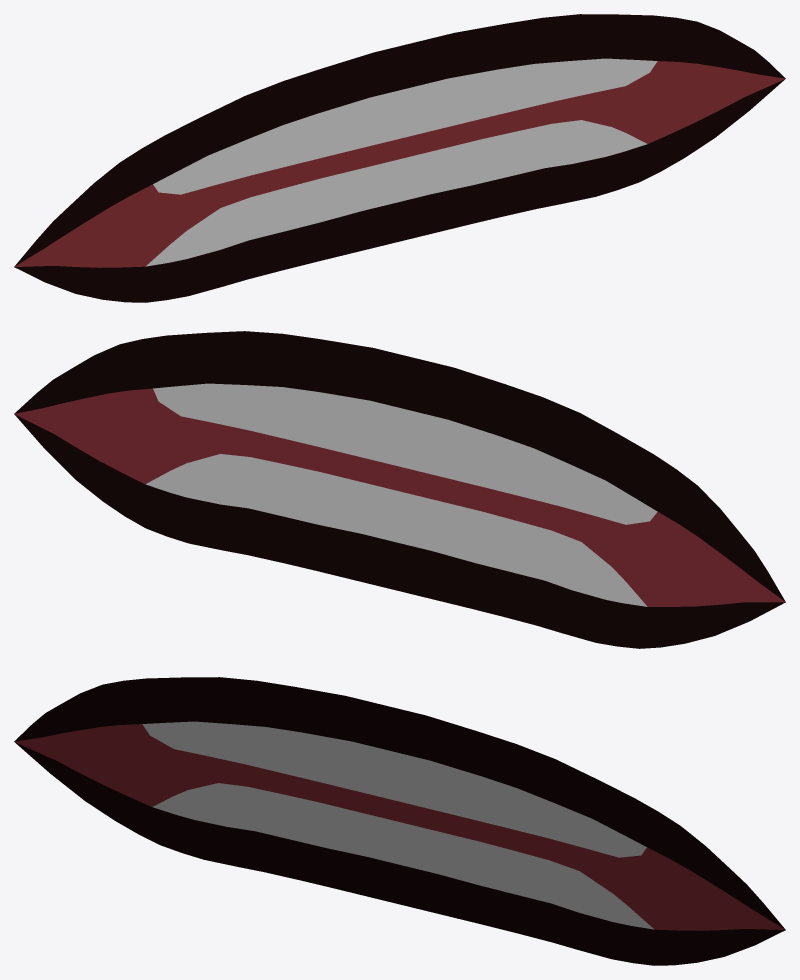
The model's file is flip_j_ch_sh.glb.
3 views of the same model, one above another, from view 1: azimuth 30°, elevation 25°; view 2: azimuth 150°, elevation 25°; view 3: azimuth 330°, elevation 25° (orthographic).
Parts seen in each view (by area): view 1: flip_j_ch_sh; view 2: flip_j_ch_sh; view 3: flip_j_ch_sh.
Part boxes in pixels (x1,y1,x2,y2): flip_j_ch_sh: [14, 14, 785, 302]; flip_j_ch_sh: [14, 331, 785, 648]; flip_j_ch_sh: [14, 677, 785, 965].
Bounding box in the file's own units: 0.082 × 0.0223 × 0.00397.
